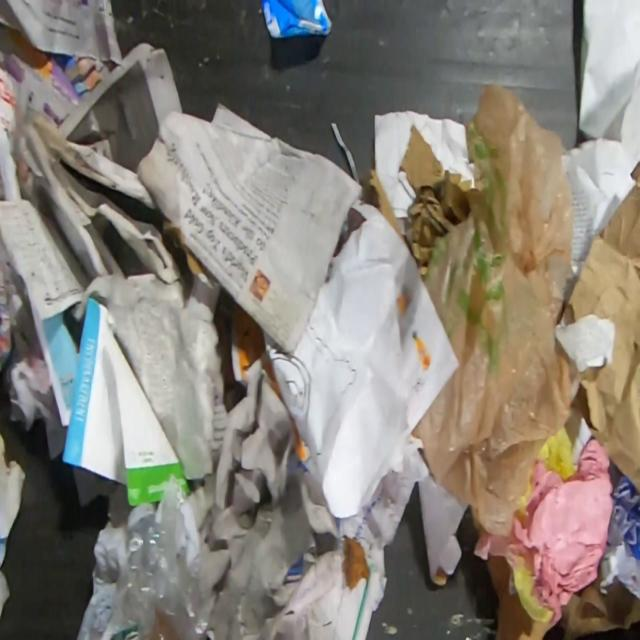cardboard: (15, 107, 221, 315), (556, 567, 640, 639), (418, 474, 468, 585), (0, 428, 26, 620)
rigid_plastic: (260, 0, 333, 38)
soft_plastic: (412, 79, 578, 538), (105, 469, 216, 640)
